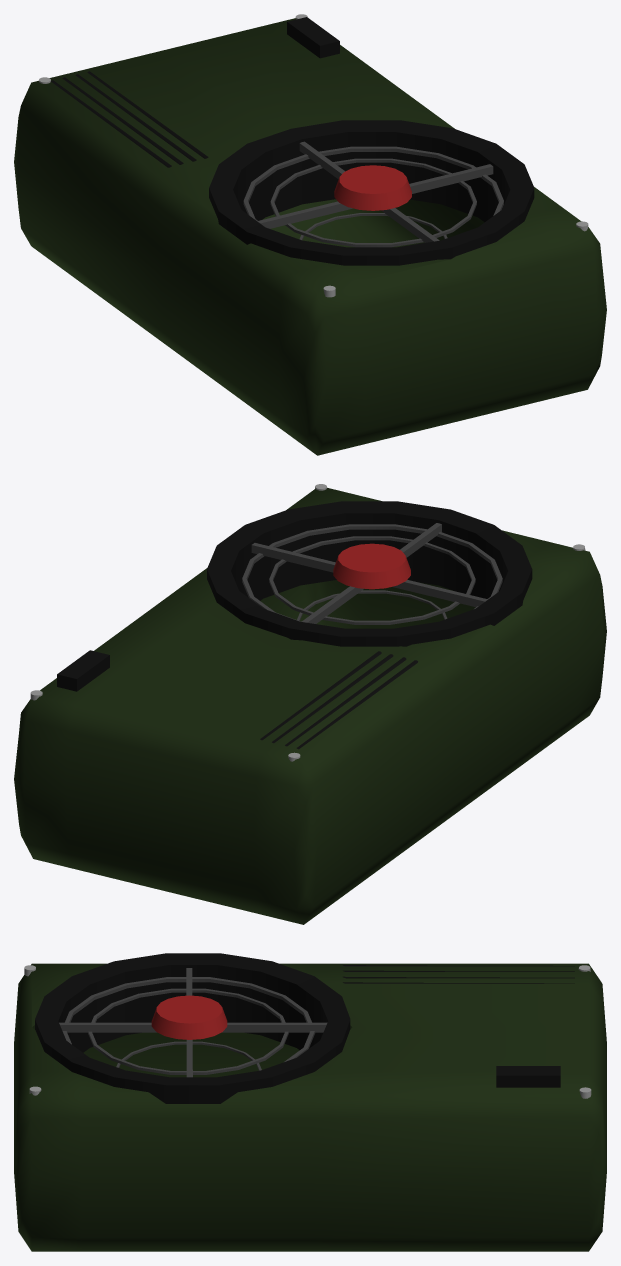
File: stage4 hitter body.fbx
3 views of the same model, one above another, from view 1: azimuth 30°, elevation 25°; view 2: azimuth 150°, elevation 25°; view 3: azimuth 270°, elevation 25° (orthographic). The views are drawn at different scales.
Visible parts, largest first — view 1: Object004; view 2: Object004; view 3: Object004.
Part boxes in pixels (x1,y1,x2,y2): Object004: (14,14,606,455); Object004: (14,484,606,924); Object004: (14,953,606,1251).
Size of the model in its own units: 49.98 by 87.72 by 29.15.
